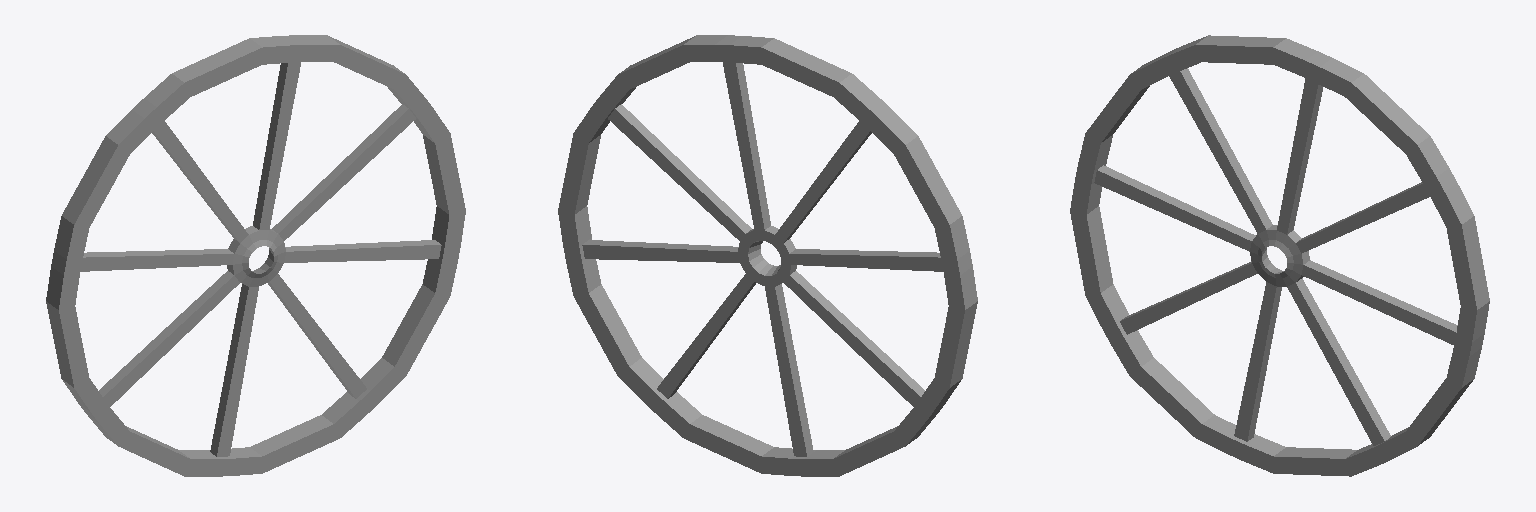
Rendered from WHeel.obj.
The picture shows the model from 3 angles: view 1: azimuth 30°, elevation 25°; view 2: azimuth 150°, elevation 25°; view 3: azimuth 330°, elevation 25°; orthographic projection.
Parts seen in each view (by area): view 1: WHeel; view 2: WHeel; view 3: WHeel.
Boxes of the visible parts, <box> form: WHeel: <box>46,35,465,476</box>; WHeel: <box>558,35,977,476</box>; WHeel: <box>1070,35,1489,476</box>.
Size of the model in its own units: 1.28 by 1.28 by 0.0695.